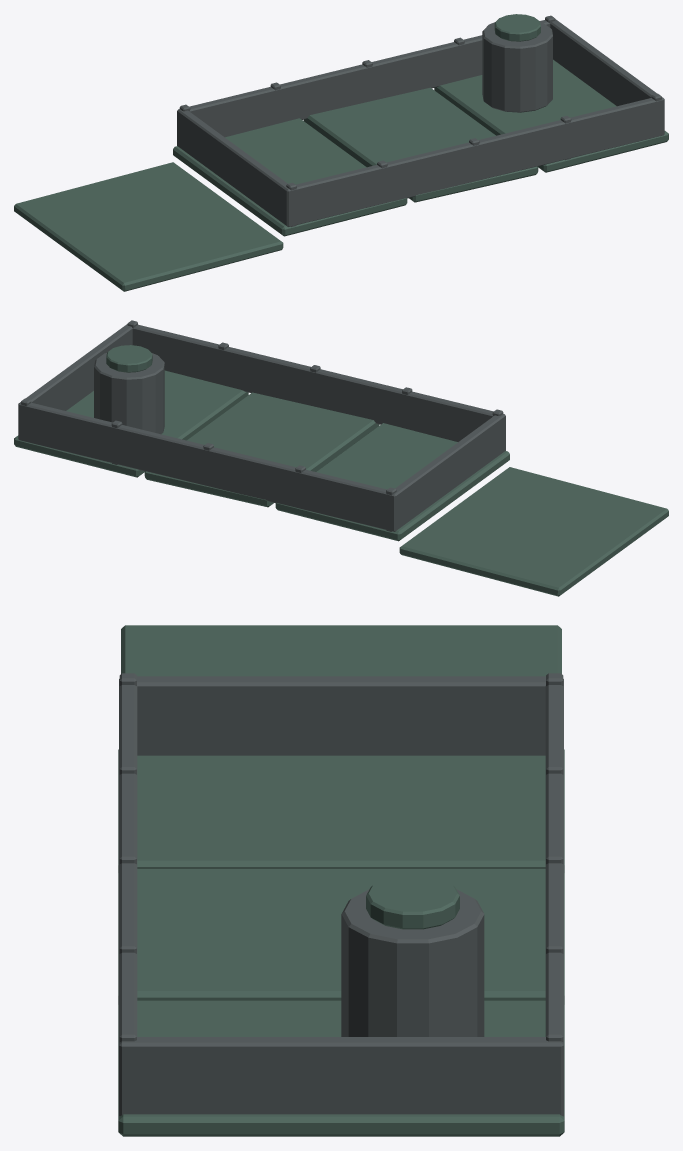
File: old_klim_trade_hall_roof.glb
3 renders of one model, top to bottom at view 1: azimuth 30°, elevation 25°; view 2: azimuth 150°, elevation 25°; view 3: azimuth 270°, elevation 25°, orthographic. The views are drawn at different scales.
Parts seen in each view (by area): view 1: old_klim_trade_hall_roof_old_klim_weathered_verdigris_ground, old_klim_trade_hall_roof_old_klim_weathered_charcoal_steel_g; view 2: old_klim_trade_hall_roof_old_klim_weathered_verdigris_ground, old_klim_trade_hall_roof_old_klim_weathered_charcoal_steel_g; view 3: old_klim_trade_hall_roof_old_klim_weathered_verdigris_ground, old_klim_trade_hall_roof_old_klim_weathered_charcoal_steel_g.
Part boxes in pixels (x1,y1,x2,y2): old_klim_trade_hall_roof_old_klim_weathered_verdigris_ground: (14, 14, 668, 291); old_klim_trade_hall_roof_old_klim_weathered_charcoal_steel_g: (177, 15, 664, 227); old_klim_trade_hall_roof_old_klim_weathered_verdigris_ground: (14, 345, 668, 596); old_klim_trade_hall_roof_old_klim_weathered_charcoal_steel_g: (18, 320, 505, 531); old_klim_trade_hall_roof_old_klim_weathered_verdigris_ground: (118, 625, 564, 1136); old_klim_trade_hall_roof_old_klim_weathered_charcoal_steel_g: (119, 673, 563, 1116).
Bounding box in the file's own units: 10.24 × 1.83 × 3.62.
